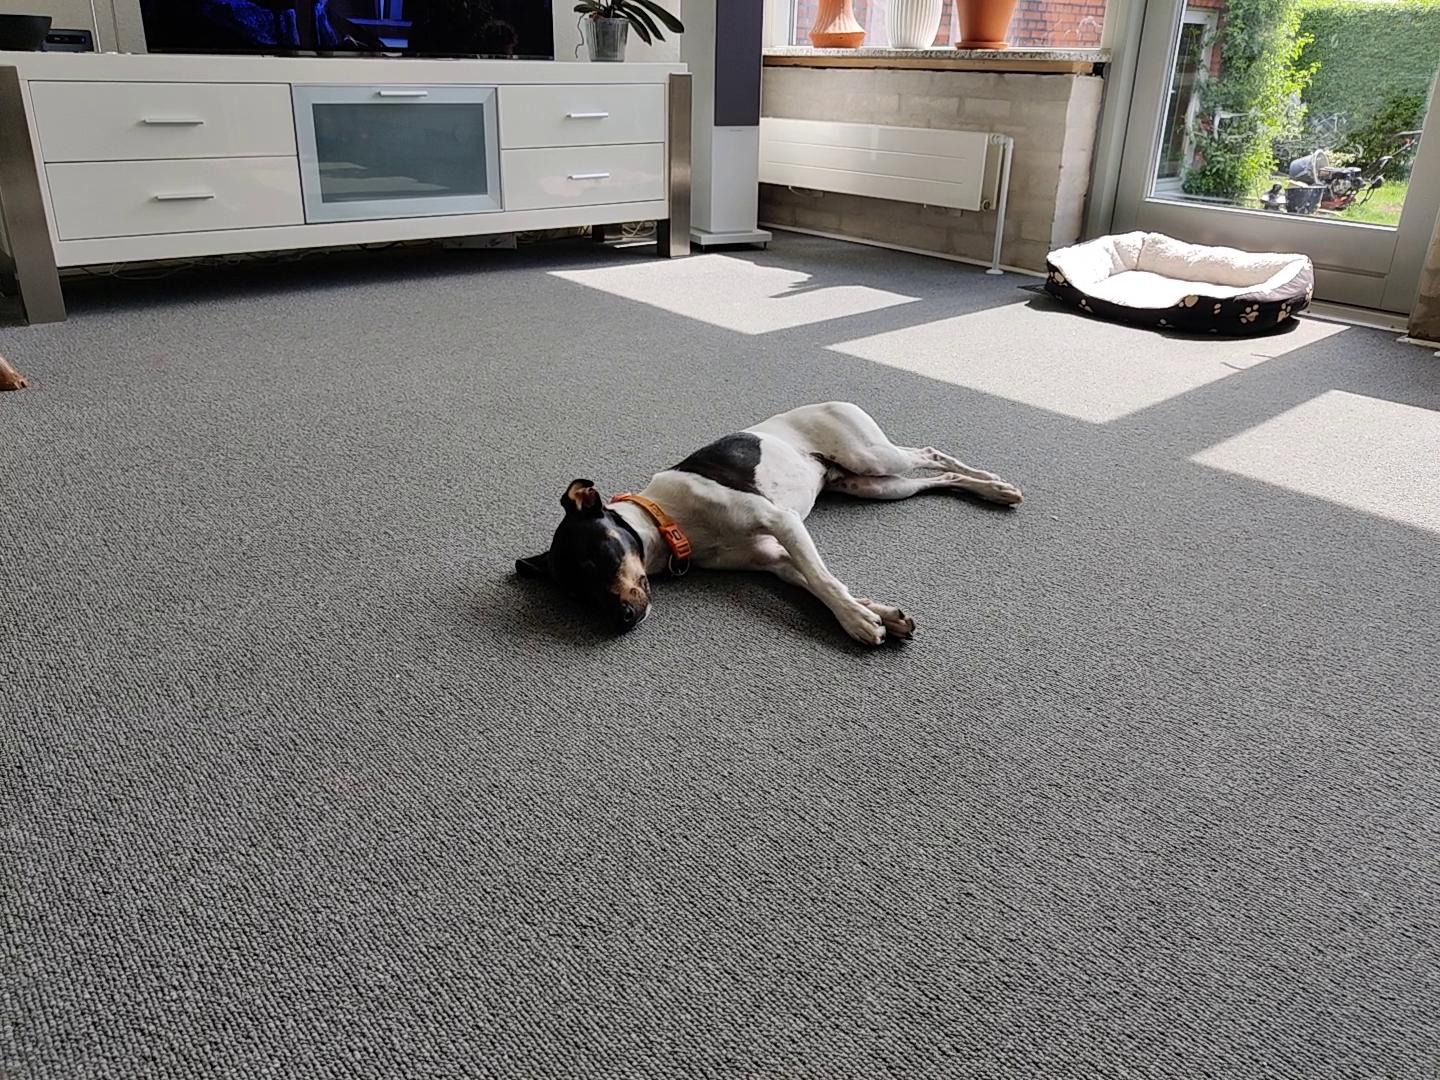Dog: (509, 394, 1025, 650)
